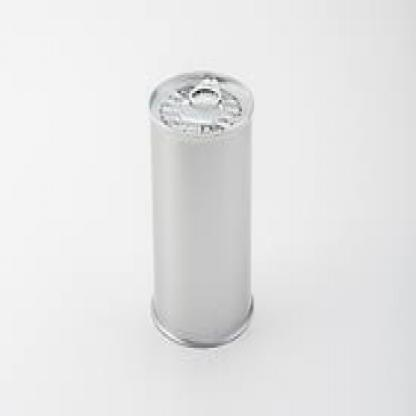METAL: (148, 68, 253, 348)
